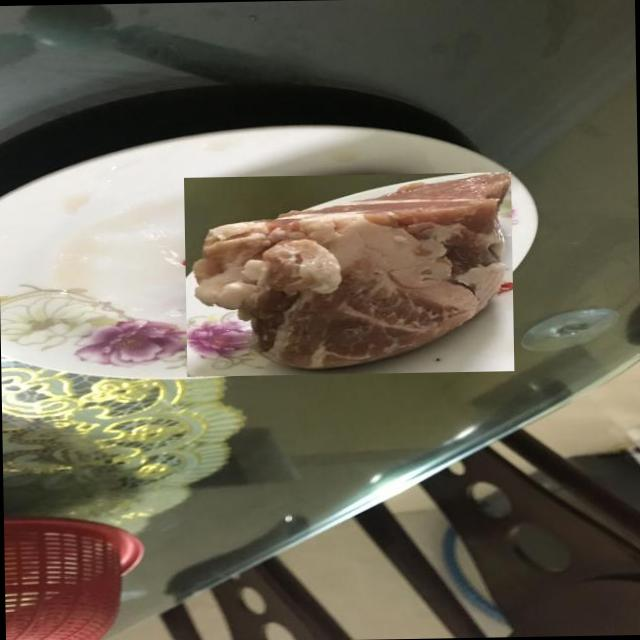chicken: (183, 172, 514, 378)
